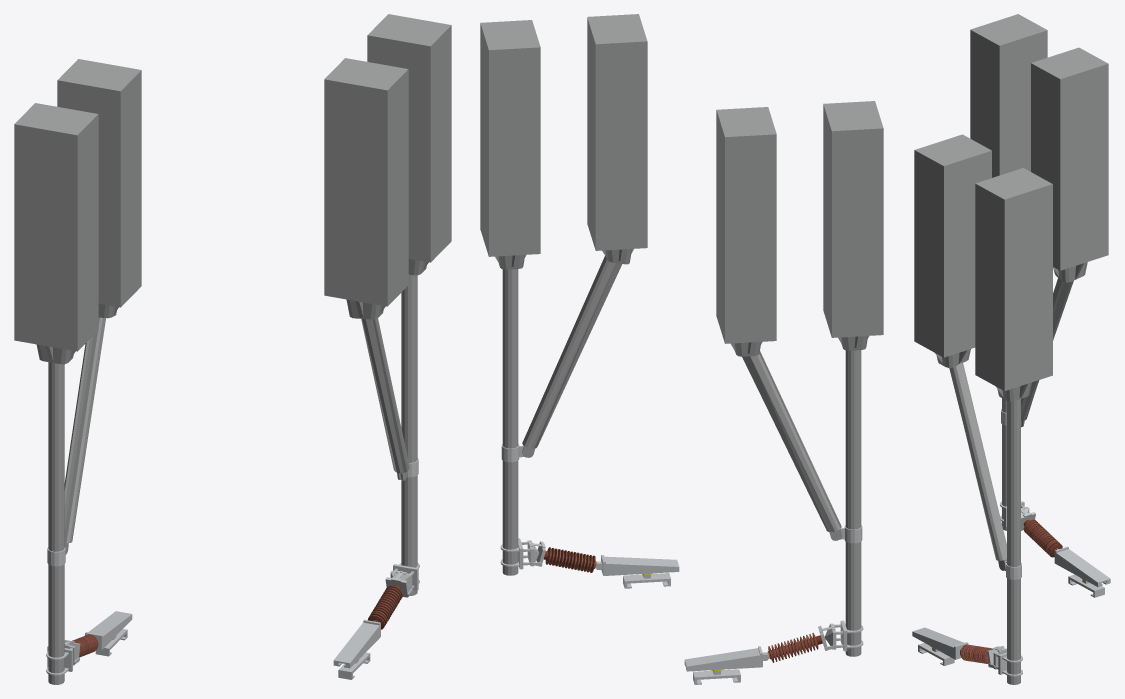
File: catenary_rigid_0d_45d_h.obj
3 renders of one model, left to right at view 1: azimuth 30°, elevation 25°; view 2: azimuth 150°, elevation 25°; view 3: azimuth 270°, elevation 25°, orthographic. The views are drawn at different scales.
Parts seen in each view (by area): view 1: 1.002, 1.001; view 2: 1.001, 1.002; view 3: 1.001, 1.002.
Boxes of the visible parts, x1,y1,x2,y2 form: 1.002: (14, 59, 141, 684); 1.001: (324, 14, 451, 679); 1.001: (480, 14, 679, 588); 1.002: (684, 101, 883, 684); 1.001: (912, 134, 1052, 684); 1.002: (970, 14, 1110, 597).
Bounding box in the file's own units: 2.16 × 2.8 × 0.9743.
2 materials, 2 textured.
